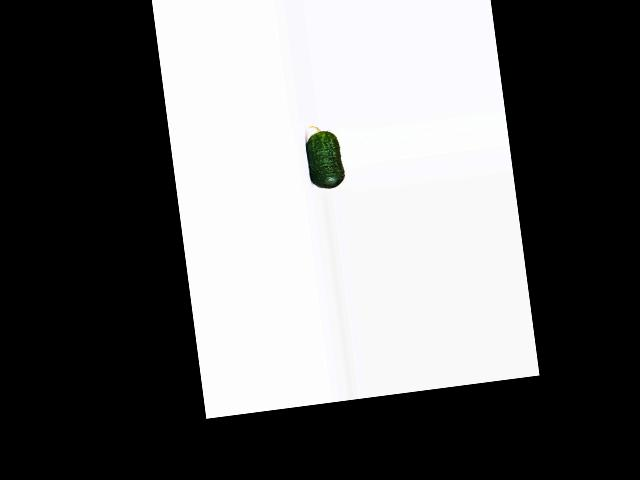cucumber: (303, 122, 346, 190)
